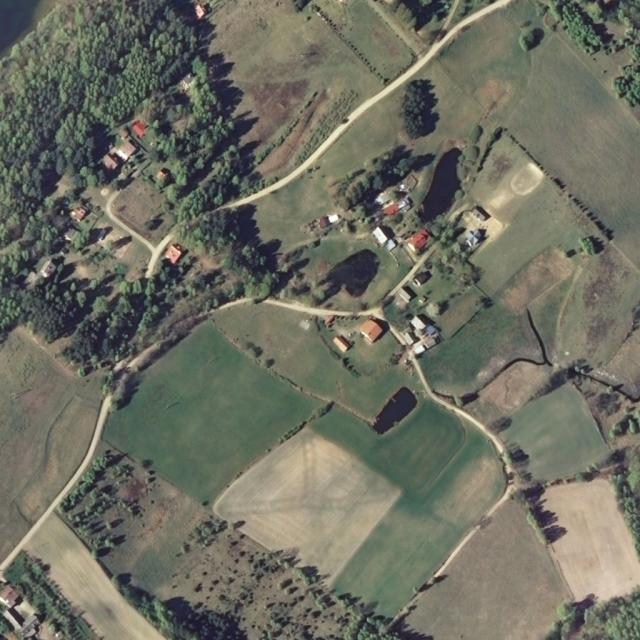agricultural_land: (210, 406, 404, 595), (414, 129, 595, 311), (400, 495, 600, 640), (493, 379, 612, 497)
building: (322, 130, 459, 256), (364, 201, 390, 221)
greenland: (309, 385, 521, 622), (97, 307, 322, 530), (0, 330, 101, 559), (493, 379, 613, 497), (456, 132, 572, 247), (319, 244, 390, 308), (470, 259, 508, 294), (171, 115, 196, 134)
unmetalled_road: (397, 351, 511, 463), (304, 0, 429, 89), (425, 482, 518, 590), (263, 298, 376, 321), (394, 598, 417, 623)
